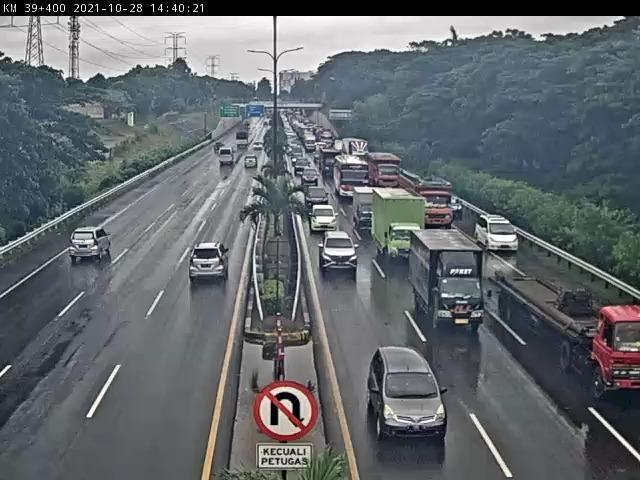bus: (332, 156, 366, 196)
car: (369, 347, 450, 440), (318, 228, 357, 271), (70, 227, 114, 264), (476, 216, 519, 252), (189, 244, 231, 279), (309, 201, 338, 230), (303, 183, 329, 204)
truck: (497, 271, 640, 400), (411, 231, 488, 328), (370, 188, 421, 255), (398, 168, 450, 223), (350, 184, 377, 228)
